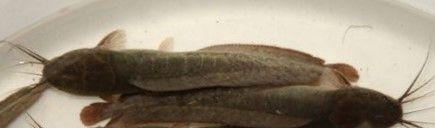Catfish: (33, 25, 363, 97), (82, 76, 418, 128)
